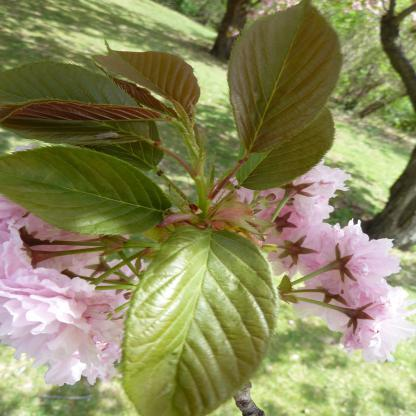Cherry leaf: (126, 222, 282, 416), (225, 2, 353, 168), (0, 144, 171, 233), (0, 58, 158, 142), (84, 40, 214, 131)
